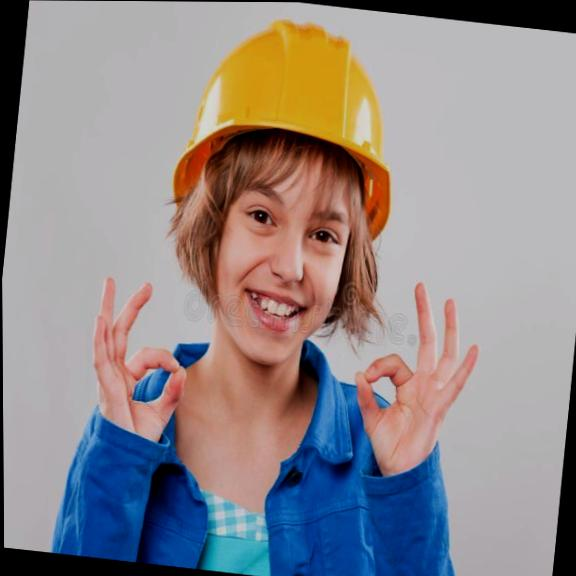no_safety_vest: (94, 339, 455, 576)
